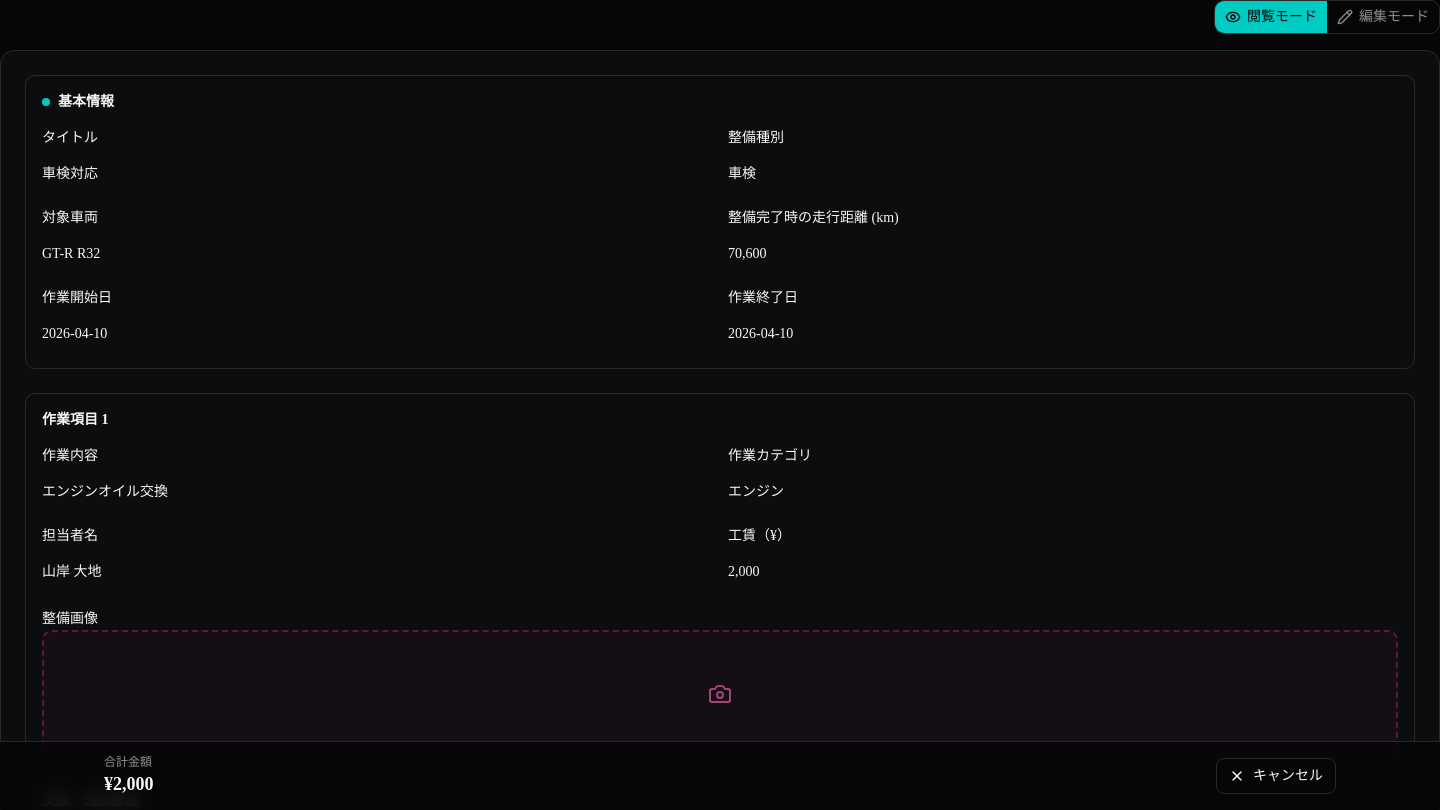
it: MaintenanceRecordDetailContent › 確認ダイアログで破棄すると編集内容が破棄され閲覧モードに戻る
Click the button "編集モード" at (1383,17), box [1327, 1, 1439, 33]
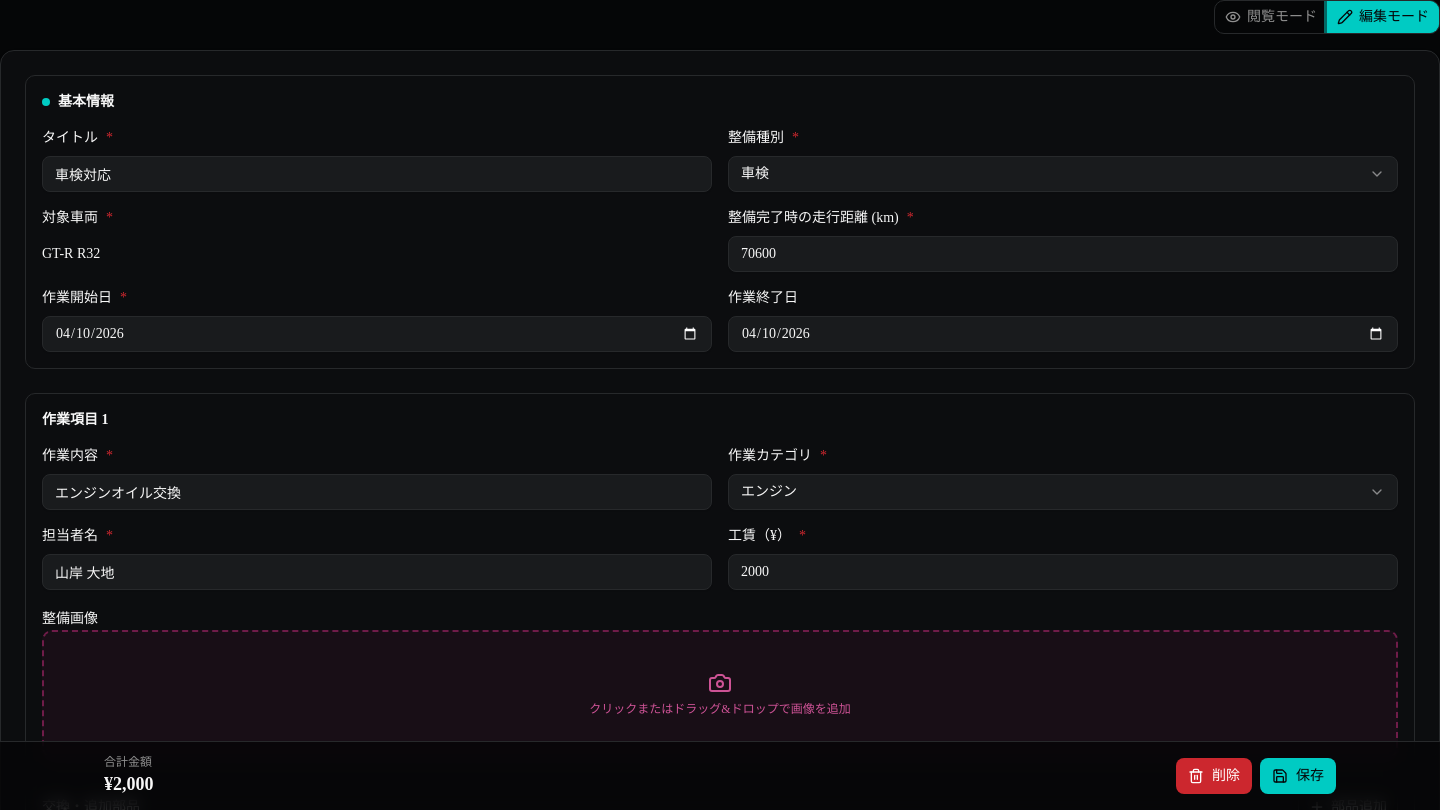
Replace the text in the field with placeholder "例：車検対応、オイル交換" with "変更後タイトル" at (377,174), box [42, 156, 712, 192]
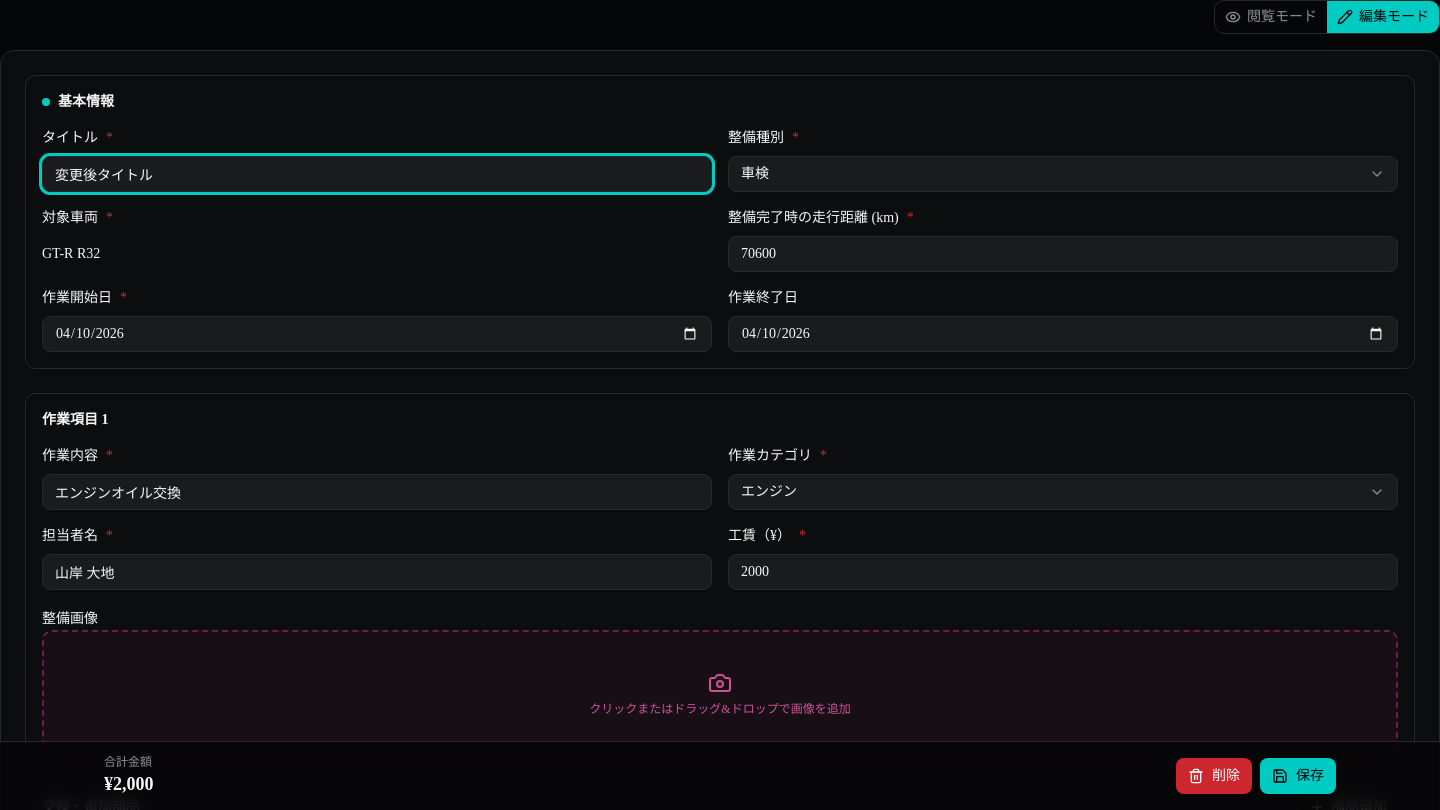
Click the button "閲覧モード" at (1271,17), box [1215, 1, 1327, 33]
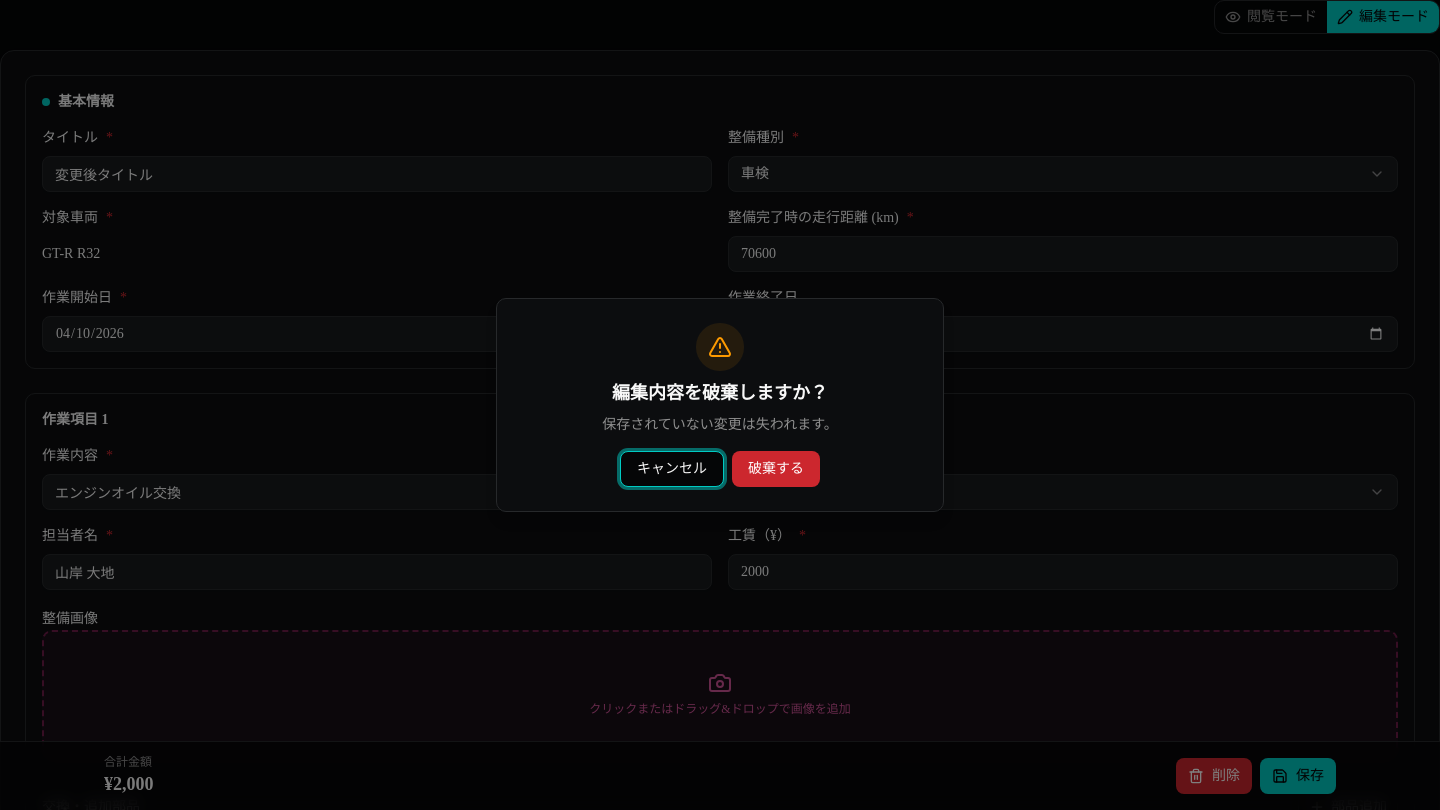
Click the button "破棄する" at (776,469), box [732, 451, 820, 487]
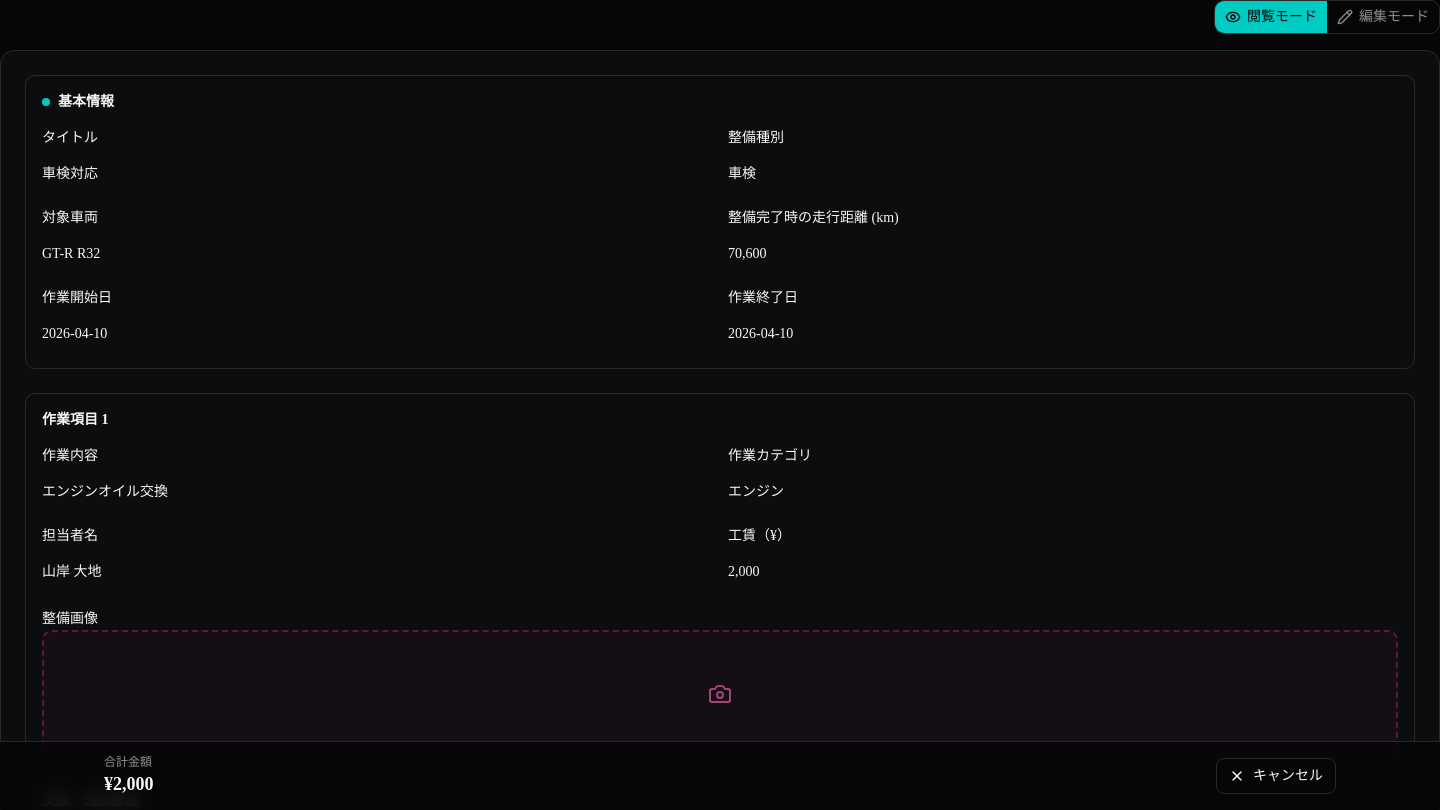
Check: the field with placeholder "例：車検対応、オイル交換" is gone
Check: the text "車検対応" is shown, box [42, 166, 98, 181]
